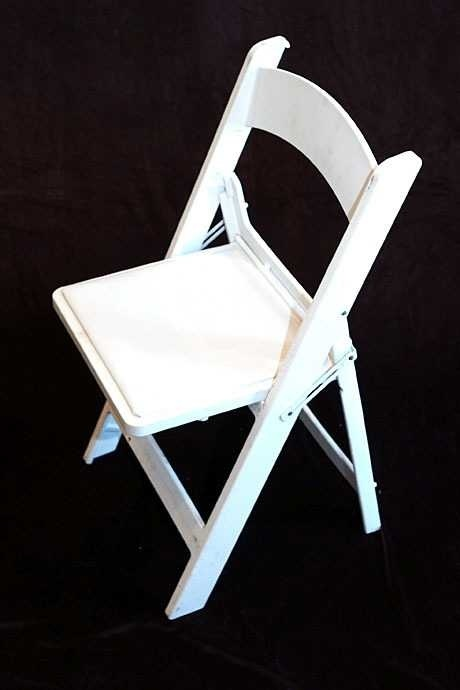obstacle: (53, 37, 420, 618)
